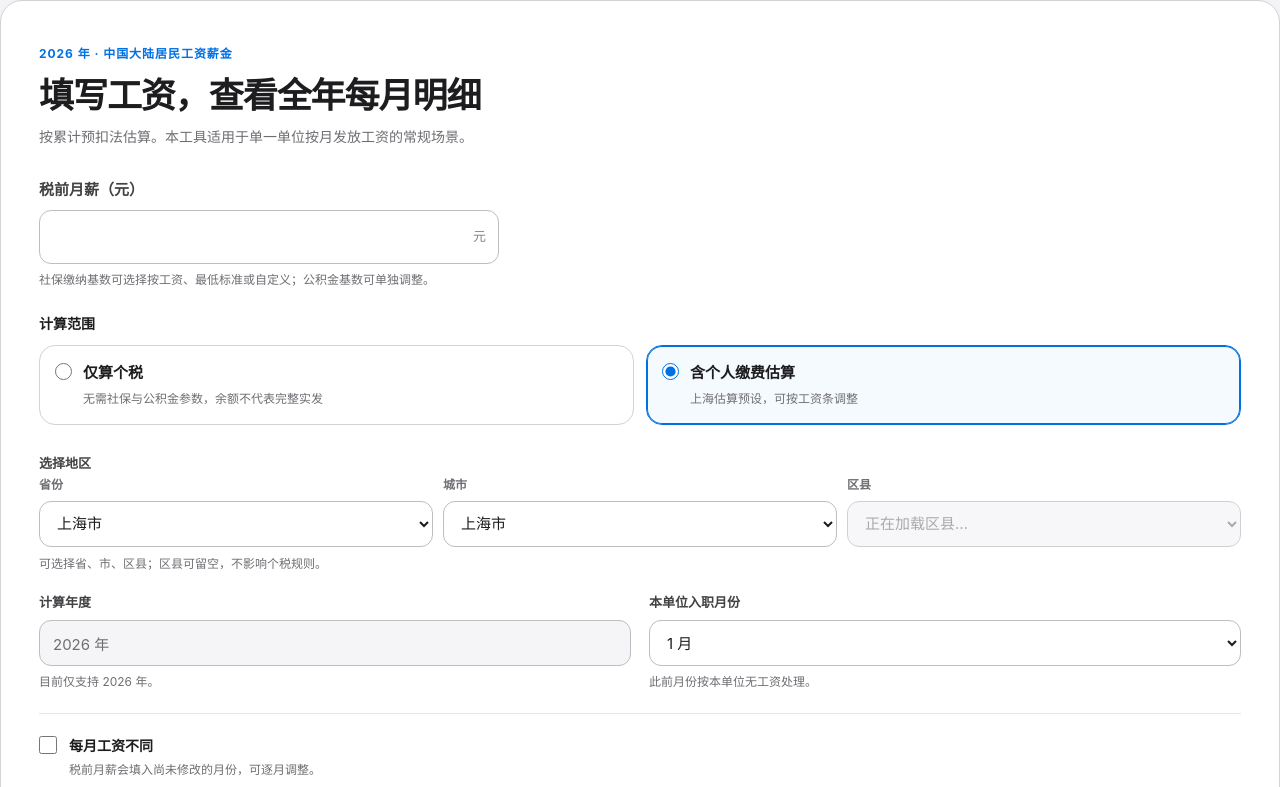
Test: SalaryCalculator › keeps edited monthly wages when the base salary changes
The image size is (1280, 787).
Click the checkbox labelled "每月工资不同 税前月薪会填入尚未修改的月份，可逐月调整。" at (48, 745), box [39,736,57,754]
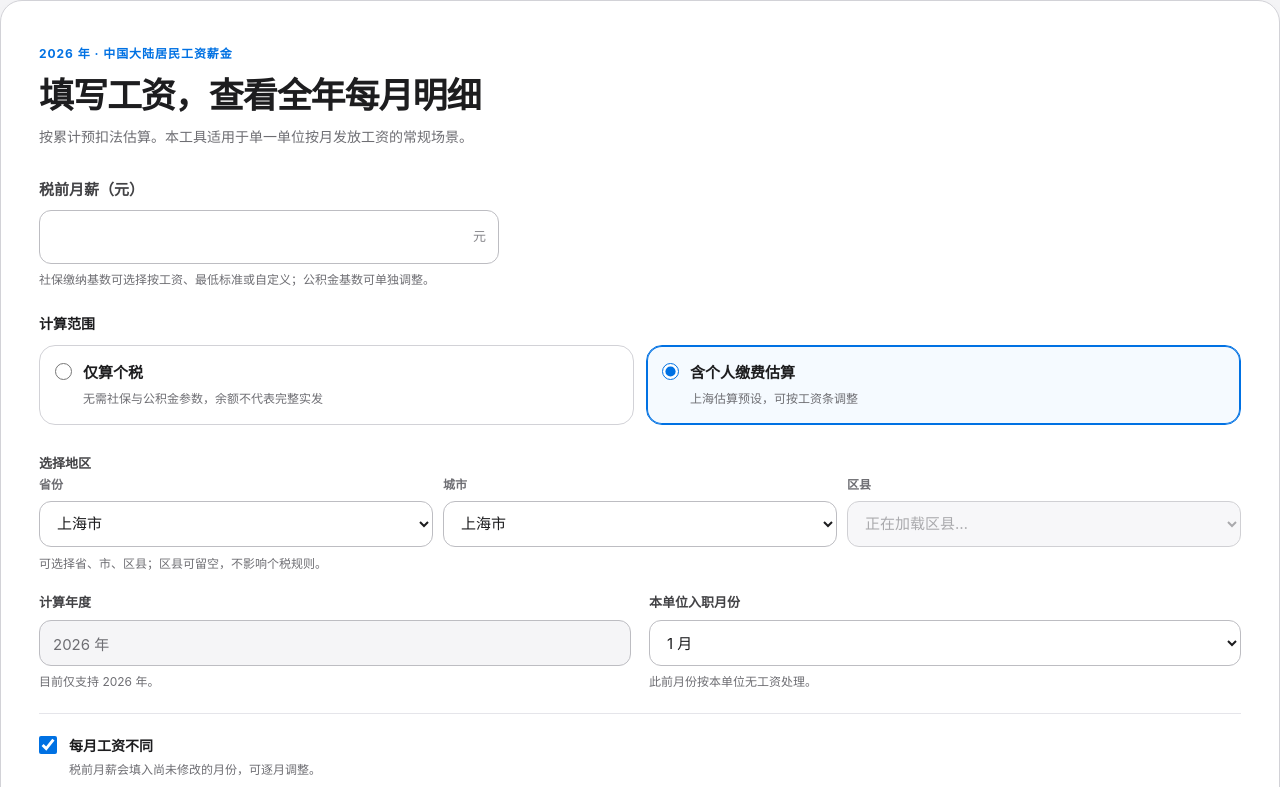
Type "8000" into the field labelled "税前月薪（元）" at (269, 237), box [39,210,499,264]
(page scrolled)
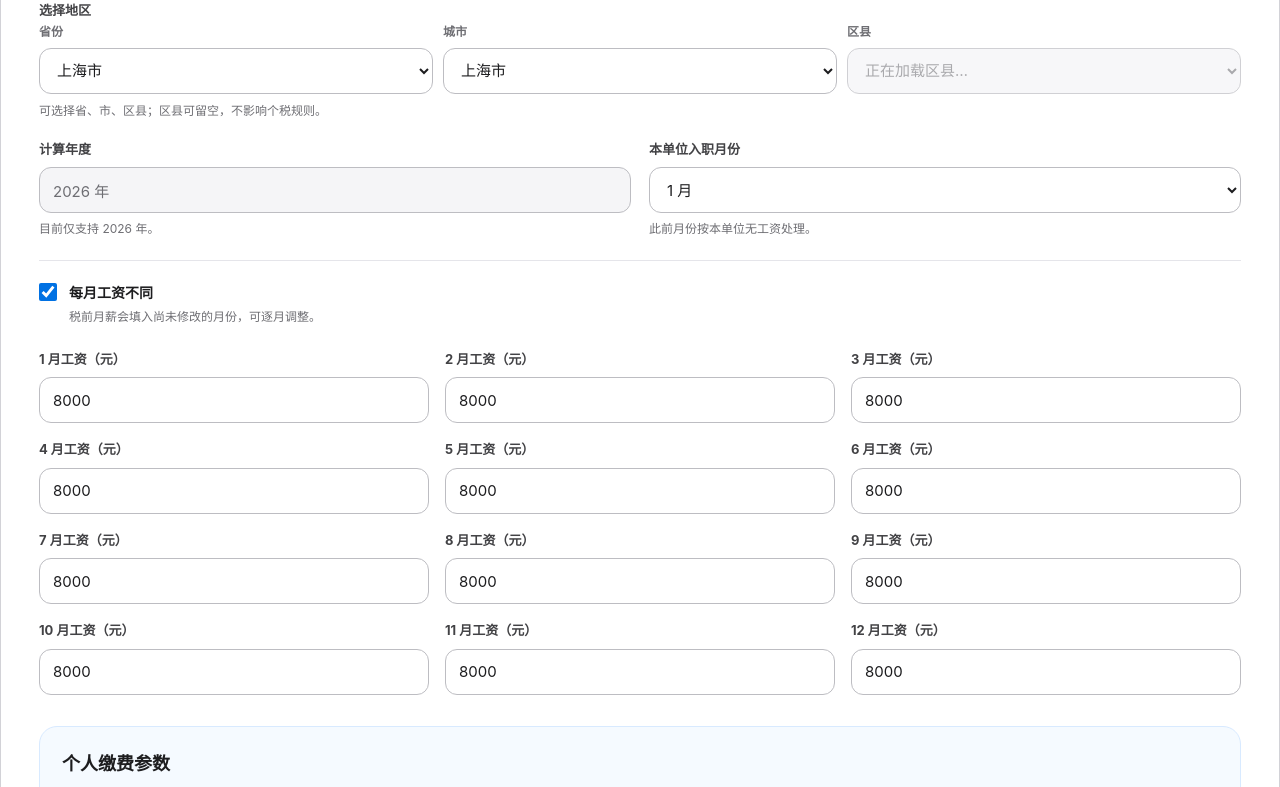
Result: the field labelled "1 月工资（元）" holds "8000"
Result: the field labelled "2 月工资（元）" holds "8000" at [445,377,835,423]
Replace the text in the field labelled "1 月工资（元）" with "9000" at (234, 400), box [39,377,429,423]
(page scrolled)
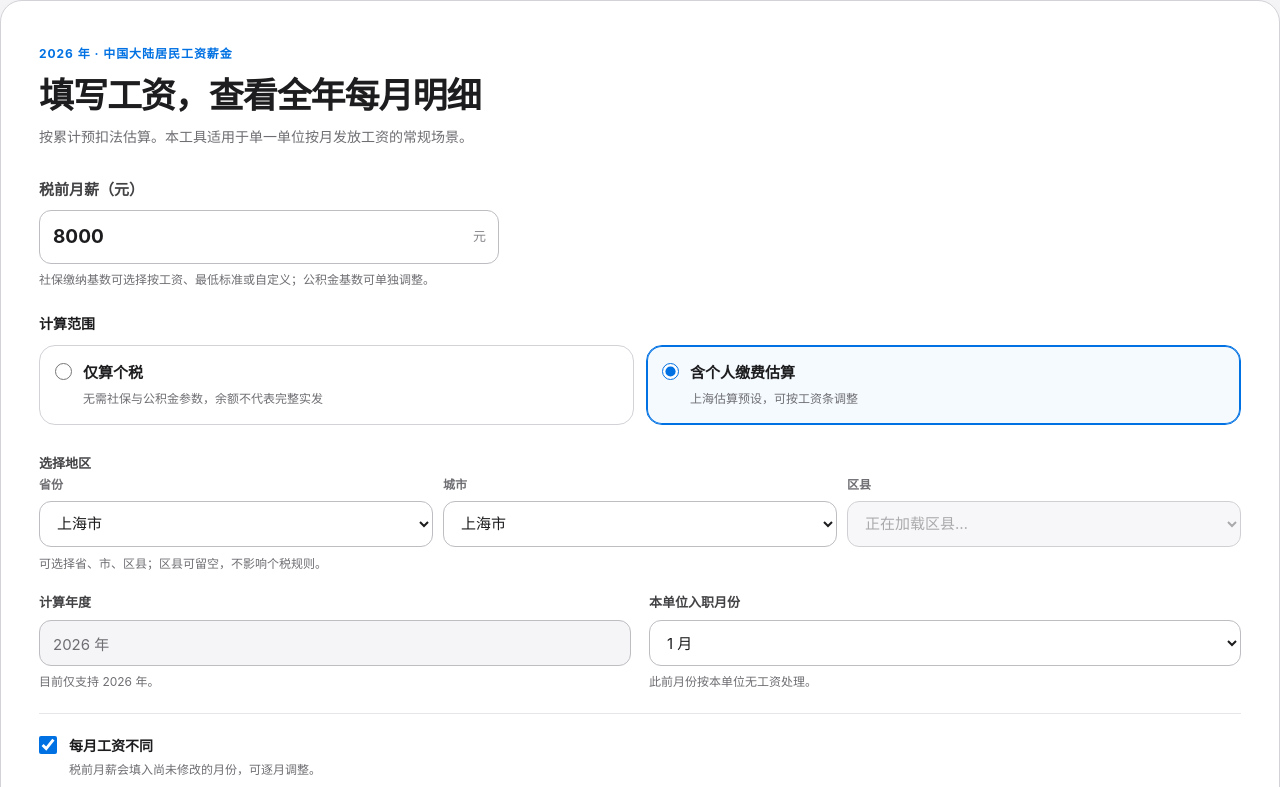
Replace the text in the field labelled "税前月薪（元）" with "10000" at (269, 237), box [39,210,499,264]
(page scrolled)
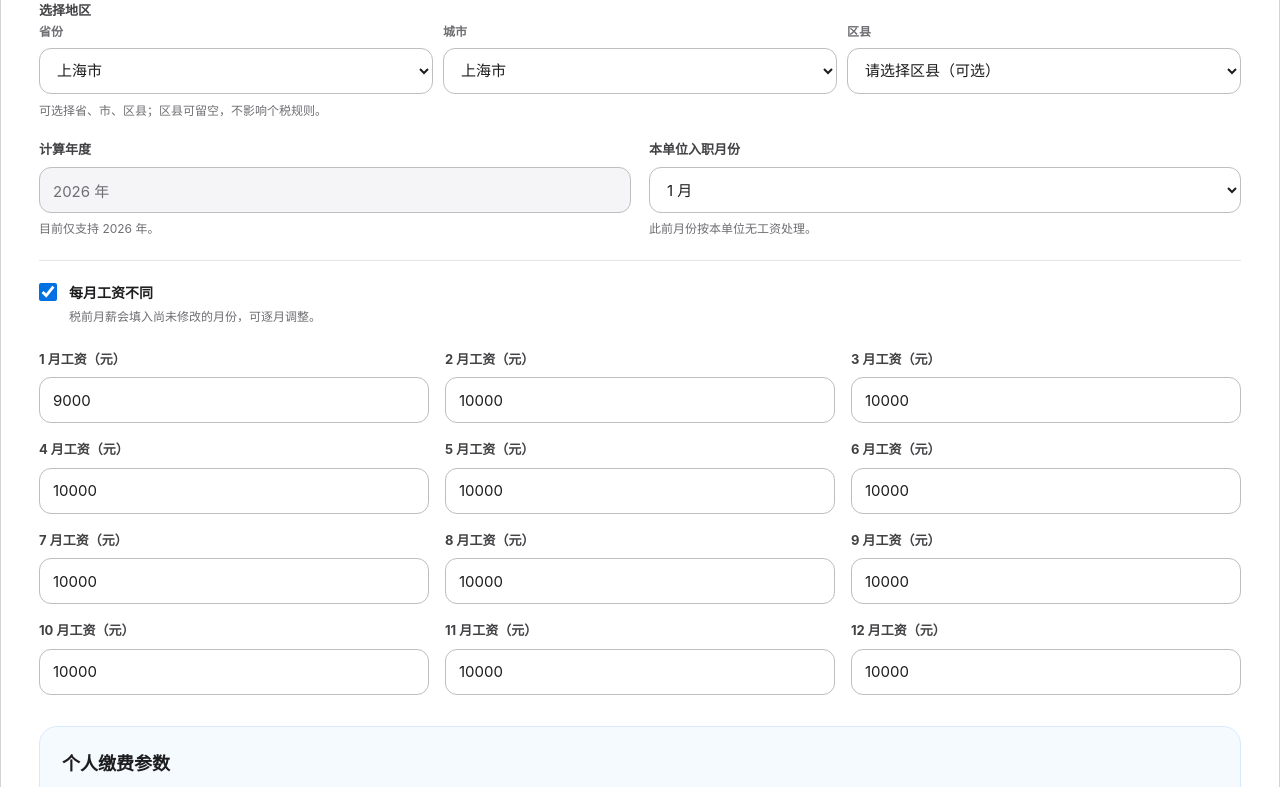
Result: the field labelled "2 月工资（元）" holds "10000" at [445,377,835,423]
